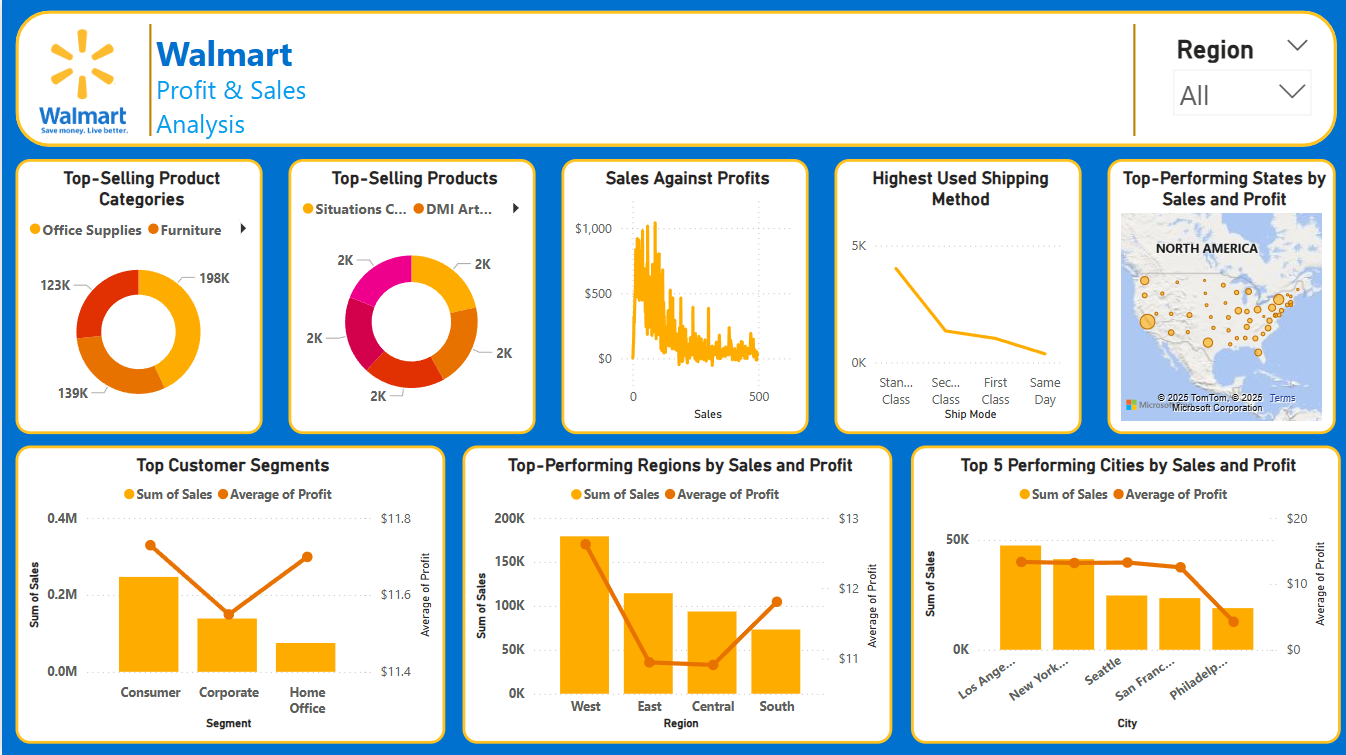

The page's visual inventory and layout, read from the dashboard file:
{"tool":"powerbi","page":{"name":"Page 1","canvas":[1280,720],"ordinal":0},"visuals":[{"type":"donutChart","title":"Top-Selling Product Categories","fields":{"Category":["Walmart Dataset_preprocessed_data.Category"],"Y":["Sum(Walmart Dataset_preprocessed_data.Sales)"]},"box":[12.2,151.4,235.2,262.2],"z":0},{"type":"lineStackedColumnComboChart","title":"Top Customer Segments","fields":{"Category":["Walmart Dataset_preprocessed_data.Segment"],"Y":["Sum(Walmart Dataset_preprocessed_data.Sales)"],"Y2":["Avg(Walmart Dataset_preprocessed_data.Profit)"]},"box":[12.2,424.4,409,283.9],"z":1000},{"type":"lineStackedColumnComboChart","title":"Top-Performing Regions by Sales and Profit","fields":{"Category":["Walmart Dataset_preprocessed_data.Region"],"Y":["Sum(Walmart Dataset_preprocessed_data.Sales)"],"Y2":["Avg(Walmart Dataset_preprocessed_data.Profit)"]},"box":[438.3,424.4,409.6,283.9],"z":2000},{"type":"lineStackedColumnComboChart","title":"Top 5 Performing Cities by Sales and Profit","fields":{"Category":["Walmart Dataset_preprocessed_data.City"],"Y":["Sum(Walmart Dataset_preprocessed_data.Sales)"],"Y2":["Avg(Walmart Dataset_preprocessed_data.Profit)"]},"box":[865.1,424.4,409,283.9],"z":3000},{"type":"donutChart","title":"Top-Selling Products","fields":{"Category":["Walmart Dataset_preprocessed_data.Product Name"],"Y":["Sum(Walmart Dataset_preprocessed_data.Sales)"]},"box":[272.5,151.4,235,262.2],"z":4000},{"type":"lineChart","title":"Sales Against Profits","fields":{"Category":["Walmart Dataset_preprocessed_data.Sales"],"Y":["Sum(Walmart Dataset_preprocessed_data.Profit)"]},"box":[532.7,151.4,235,262.2],"z":5000},{"type":"lineChart","title":"Highest Used Shipping Method","fields":{"Category":["Walmart Dataset_preprocessed_data.Ship Mode"],"Y":["CountNonNull(Walmart Dataset_preprocessed_data.Ship Mode)"]},"box":[792.8,151.4,235,262.2],"z":6000},{"type":"map","title":"Top-Performing States by Sales and Profit","fields":{"Category":["Walmart Dataset_preprocessed_data.State"],"Size":["Sum(Walmart Dataset_preprocessed_data.Sales)"]},"box":[1053,151.4,217.6,262.2],"z":7000},{"type":"shape","box":[12.2,9.5,1258.4,129.8],"z":8000},{"type":"shape","box":[127.1,23,28.4,106.8],"z":9000},{"type":"textbox","box":[141.9,63.5,247.4,75.7],"z":10000},{"type":"textbox","box":[141.9,23,263.6,54.1],"z":11000},{"type":"shape","box":[1063.8,23,28.4,106.8],"z":13000},{"type":"slicer","fields":{"Values":["Walmart Dataset_preprocessed_data.Region"]},"box":[1106.1,27.7,151.2,95.9],"z":14000},{"type":"image","box":[22.7,13.6,107.5,127.2],"z":15000}]}

Visuals, with their boxes in screenshot pixels (x1, y1, x2, y2), scaled from the page's 1280x720 canvas onto the 1346x755 screenshot:
"Top-Selling Product Categories" donutChart: [left=13, top=159, right=260, bottom=434]
"Top Customer Segments" lineStackedColumnComboChart: [left=13, top=445, right=443, bottom=743]
"Top-Performing Regions by Sales and Profit" lineStackedColumnComboChart: [left=461, top=445, right=892, bottom=743]
"Top 5 Performing Cities by Sales and Profit" lineStackedColumnComboChart: [left=910, top=445, right=1340, bottom=743]
"Top-Selling Products" donutChart: [left=287, top=159, right=534, bottom=434]
"Sales Against Profits" lineChart: [left=560, top=159, right=807, bottom=434]
"Highest Used Shipping Method" lineChart: [left=834, top=159, right=1081, bottom=434]
"Top-Performing States by Sales and Profit" map: [left=1107, top=159, right=1336, bottom=434]
shape: [left=13, top=10, right=1336, bottom=146]
shape: [left=134, top=24, right=164, bottom=136]
textbox: [left=149, top=67, right=409, bottom=146]
textbox: [left=149, top=24, right=426, bottom=81]
shape: [left=1119, top=24, right=1149, bottom=136]
slicer - Walmart Dataset_preprocessed_data.Region: [left=1163, top=29, right=1322, bottom=130]
image: [left=24, top=14, right=137, bottom=148]
